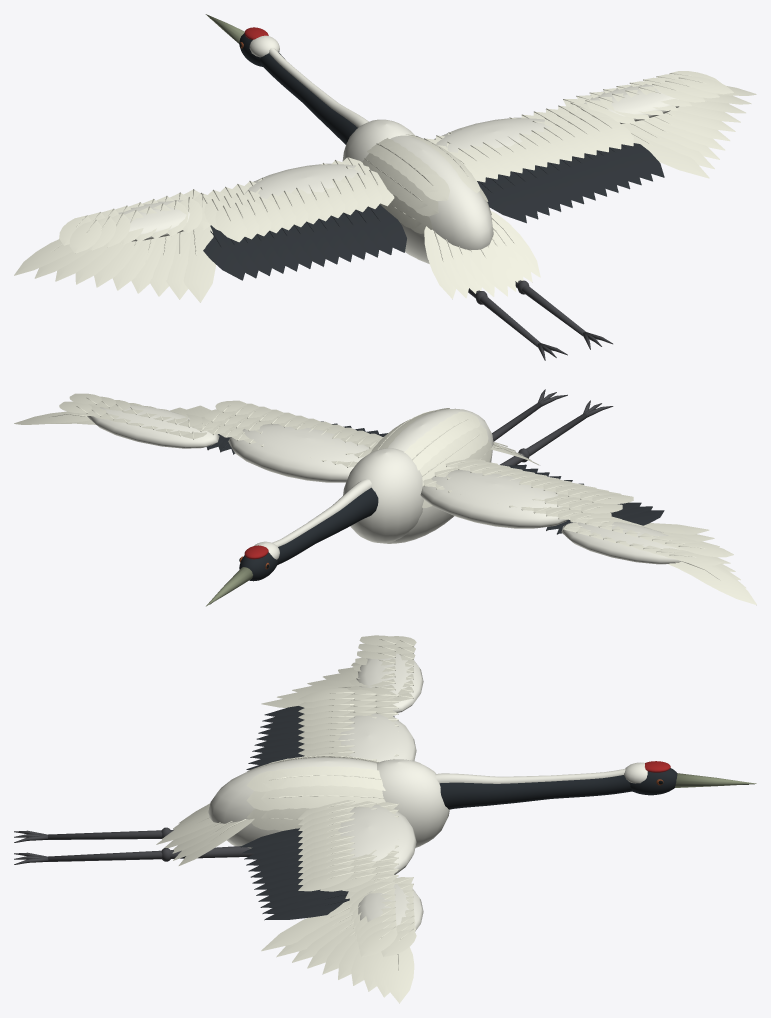
Rendered from crane-flight.glb.
3 views of the same model, one above another, from view 1: azimuth 30°, elevation 25°; view 2: azimuth 150°, elevation 25°; view 3: azimuth 270°, elevation 25° (orthographic).
Parts seen in each view (by area): view 1: Wrist_L_FeatherIvory, Body_FeatherIvory, Wrist_R_FeatherIvory, Shoulder_L_FeatherBlack, Body_CraneWhite, Shoulder_L_FeatherIvory, Shoulder_R_FeatherBlack, Shoulder_R_FeatherIvory, Shoulder_R_CraneWhite, Shoulder_L_CraneWhite, Body_CraneCharcoal, Body_CraneLeg (+2 smaller); view 2: Body_CraneWhite, Shoulder_L_CraneWhite, Shoulder_R_CraneWhite, Wrist_L_FeatherIvory, Body_FeatherIvory, Shoulder_L_FeatherIvory, Shoulder_R_FeatherIvory, Wrist_R_FeatherIvory, Wrist_R_CraneWhite, Body_CraneCharcoal, Wrist_L_CraneWhite, Body_CraneLeg (+2 smaller); view 3: Wrist_R_FeatherIvory, Body_CraneWhite, Body_FeatherIvory, Shoulder_R_FeatherIvory, Shoulder_R_FeatherBlack, Body_CraneCharcoal, Shoulder_L_FeatherIvory, Wrist_L_FeatherIvory, Shoulder_R_CraneWhite, Body_CraneLeg, Shoulder_L_CraneWhite, Shoulder_L_FeatherBlack (+3 smaller).
Boxes of the visible parts, box(x1,y1,x2,y2) form: Wrist_L_FeatherIvory: box(14, 189, 215, 302); Body_FeatherIvory: box(362, 134, 540, 298); Wrist_R_FeatherIvory: box(563, 71, 756, 178); Shoulder_L_FeatherBlack: box(203, 204, 406, 280); Body_CraneWhite: box(249, 35, 493, 263); Shoulder_L_FeatherIvory: box(194, 157, 394, 242); Shoulder_R_FeatherBlack: box(477, 143, 664, 223); Shoulder_R_FeatherIvory: box(424, 102, 633, 182); Shoulder_R_CraneWhite: box(434, 117, 552, 152); Shoulder_L_CraneWhite: box(245, 163, 363, 199); Body_CraneCharcoal: box(210, 18, 357, 144); Body_CraneLeg: box(428, 260, 612, 360); Body_CraneWhite: box(253, 408, 493, 559); Shoulder_L_CraneWhite: box(420, 470, 567, 528); Shoulder_R_CraneWhite: box(228, 424, 368, 482); Wrist_L_FeatherIvory: box(563, 516, 756, 604); Body_FeatherIvory: box(370, 408, 539, 507); Shoulder_L_FeatherIvory: box(423, 458, 633, 522); Shoulder_R_FeatherIvory: box(194, 400, 383, 467); Wrist_R_FeatherIvory: box(14, 393, 212, 439); Wrist_R_CraneWhite: box(87, 405, 219, 448); Body_CraneCharcoal: box(210, 487, 378, 604); Wrist_L_CraneWhite: box(561, 521, 681, 564); Body_CraneLeg: box(492, 389, 613, 465); Wrist_R_FeatherIvory: box(261, 874, 416, 1003); Body_CraneWhite: box(208, 757, 647, 848); Body_FeatherIvory: box(156, 755, 385, 865); Shoulder_R_FeatherIvory: box(298, 800, 398, 891); Shoulder_R_FeatherBlack: box(240, 828, 349, 920); Body_CraneCharcoal: box(439, 768, 748, 809); Shoulder_L_FeatherIvory: box(298, 688, 398, 760); Wrist_L_FeatherIvory: box(261, 635, 416, 707); Shoulder_R_CraneWhite: box(338, 804, 416, 874); Body_CraneLeg: box(14, 827, 254, 864); Shoulder_L_CraneWhite: box(338, 713, 416, 761); Shoulder_L_FeatherBlack: box(246, 706, 394, 769).
Bounding box in the file's own units: 4.26 × 0.56 × 3.71.
